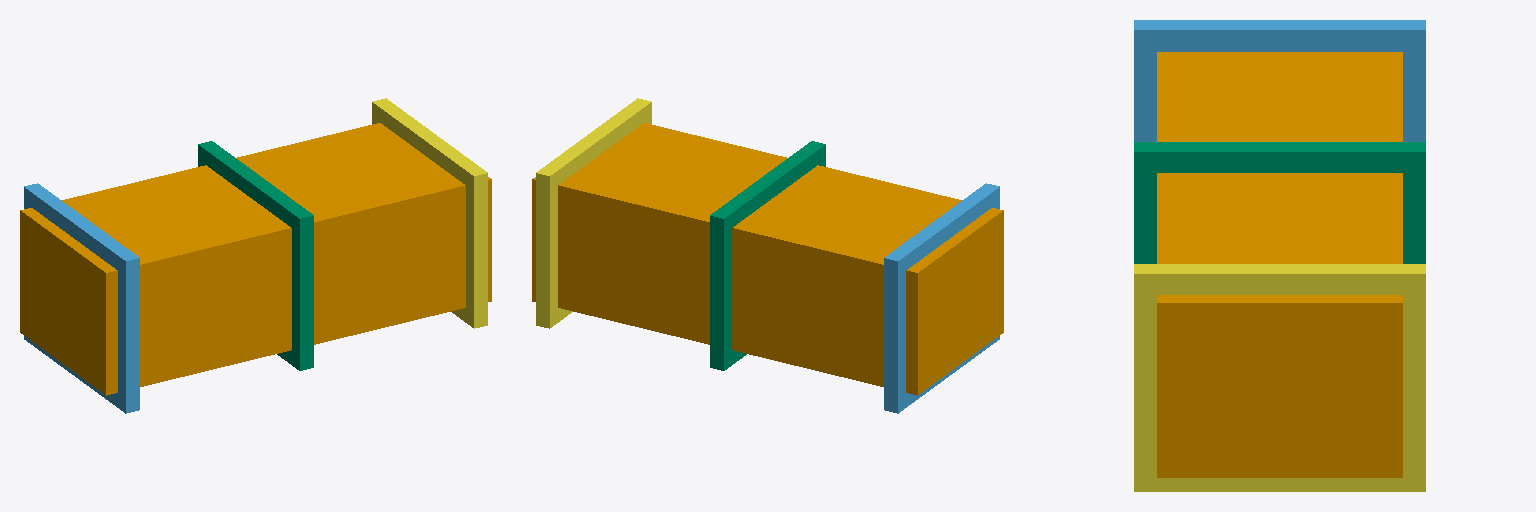
URDF robot description (debris037):
<?xml version="1.0" ?>
<robot name="debris037">

<link name="debris037">
<visual> <origin xyz="0 0 0" rpy="0 0 0" />
<geometry> <box size="1.35 0.52 0.41"/> </geometry>
</visual>
<collision> <origin xyz="0 0 0" rpy="0 0 0" />
<geometry> <box size="1.35 0.52 0.41"/> </geometry>
</collision>
<inertial> <origin xyz="0 0 0" rpy="0 0 0" />
<mass value="10.0" />
<inertia ixx="0.9669" ixy="0" ixz="0" iyy="0.9669" iyz="0" izz="0.9669" />
</inertial>
</link>
<gazebo reference="debris037"> <material>Gazebo/WoodPallet</material> </gazebo>

<link name="debris0370">
<visual> <origin xyz="-0.61 0 0" rpy="0 0 0" />
<geometry> <box size="0.05 0.62 0.51"/> </geometry>
</visual>
<collision> <origin xyz="-0.61 0 0" rpy="0 0 0" />
<geometry> <box size="0.05 0.62 0.51"/> </geometry>
</collision>
<inertial> <origin xyz="0 0 0" rpy="0 0 0" />
<mass value="0.1" />
<inertia ixx="0.0100" ixy="0" ixz="0" iyy="0.0100" iyz="0" izz="0.0100" />
</inertial>
</link>
<gazebo reference="debris0370"> <material>Gazebo/WoodPallet</material> </gazebo>

<joint name="debris0370joint" type="fixed">
<parent link="debris037"/>
<child link="debris0370"/>
<origin xyz="0 0 0" rpy="0 0 0" />
</joint>

<link name="debris0371">
<visual> <origin xyz="0.00 0 0" rpy="0 0 0" />
<geometry> <box size="0.05 0.62 0.51"/> </geometry>
</visual>
<collision> <origin xyz="0.00 0 0" rpy="0 0 0" />
<geometry> <box size="0.05 0.62 0.51"/> </geometry>
</collision>
<inertial> <origin xyz="0 0 0" rpy="0 0 0" />
<mass value="0.1" />
<inertia ixx="0.0100" ixy="0" ixz="0" iyy="0.0100" iyz="0" izz="0.0100" />
</inertial>
</link>
<gazebo reference="debris0371"> <material>Gazebo/WoodPallet</material> </gazebo>

<joint name="debris0371joint" type="fixed">
<parent link="debris037"/>
<child link="debris0371"/>
<origin xyz="0 0 0" rpy="0 0 0" />
</joint>

<link name="debris0372">
<visual> <origin xyz="0.61 0 0" rpy="0 0 0" />
<geometry> <box size="0.05 0.62 0.51"/> </geometry>
</visual>
<collision> <origin xyz="0.61 0 0" rpy="0 0 0" />
<geometry> <box size="0.05 0.62 0.51"/> </geometry>
</collision>
<inertial> <origin xyz="0 0 0" rpy="0 0 0" />
<mass value="0.1" />
<inertia ixx="0.0100" ixy="0" ixz="0" iyy="0.0100" iyz="0" izz="0.0100" />
</inertial>
</link>
<gazebo reference="debris0372"> <material>Gazebo/WoodPallet</material> </gazebo>

<joint name="debris0372joint" type="fixed">
<parent link="debris037"/>
<child link="debris0372"/>
<origin xyz="0 0 0" rpy="0 0 0" />
</joint>

</robot>

--- Render facts (derived) ---
Views: 3 orthographic renders of the robot side by side, from view 1: azimuth 30°, elevation 25°; view 2: azimuth 150°, elevation 25°; view 3: azimuth 270°, elevation 25°.
Model debris037 with 4 links and 3 joints (3 fixed), rooted at debris037, posed every joint at zero.
Visible links, largest first — view 1: debris037, debris0370, debris0372, debris0371; view 2: debris037, debris0370, debris0372, debris0371; view 3: debris037, debris0372, debris0370, debris0371.
Link boxes in pixels (bbox=[...]): debris037: bbox=[20, 123, 491, 395]; debris0370: bbox=[24, 183, 139, 413]; debris0372: bbox=[372, 98, 487, 328]; debris0371: bbox=[198, 141, 313, 370]; debris037: bbox=[532, 123, 1003, 395]; debris0370: bbox=[884, 183, 999, 413]; debris0372: bbox=[536, 98, 651, 328]; debris0371: bbox=[710, 141, 825, 370]; debris037: bbox=[1157, 52, 1402, 477]; debris0372: bbox=[1134, 264, 1425, 491]; debris0370: bbox=[1134, 20, 1425, 141]; debris0371: bbox=[1134, 142, 1425, 263].
Size in the robot's own frame: 1.35 by 0.62 by 0.51 metres.
Geometry: primitives only (box / cylinder / sphere), no mesh files.
